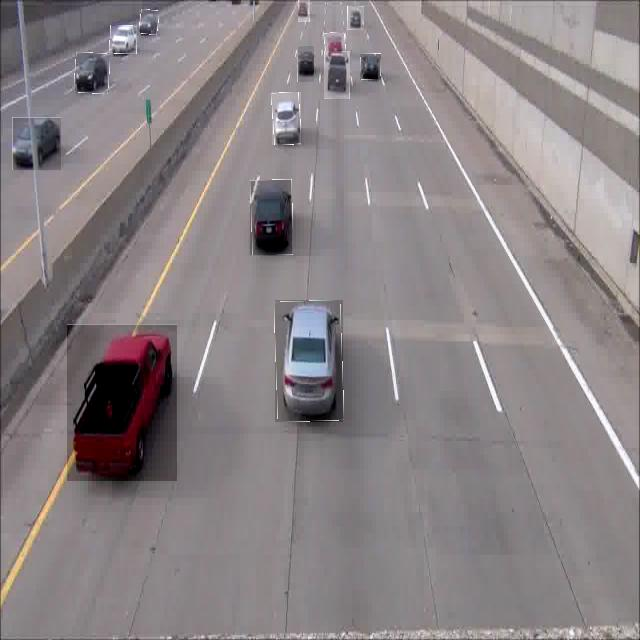Car: (275, 300, 343, 422), (250, 180, 292, 255), (12, 117, 61, 170), (272, 92, 301, 145), (75, 53, 109, 93), (110, 26, 137, 54), (297, 46, 314, 82), (360, 54, 381, 80), (324, 33, 346, 55), (139, 10, 159, 34), (347, 7, 364, 30), (298, 0, 310, 22)
Truck: (67, 324, 177, 481), (324, 51, 350, 99)
